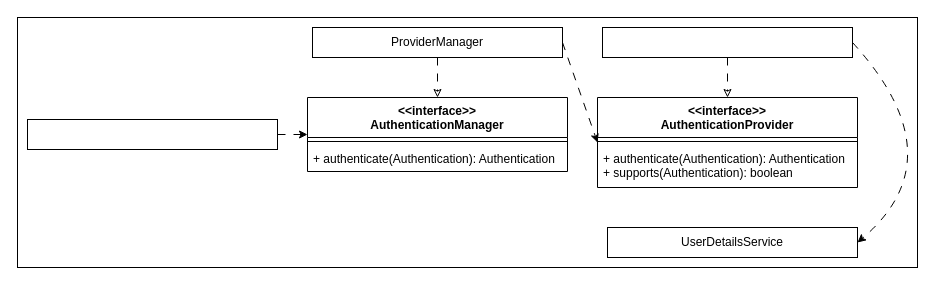
Some shapes in this 935 by 285 pixel diagram are drawn without their labels. The shapes that lost their labels are listed below. From the top down, each one's box as (x1, y1, x2, y2) in pixels, then its label:
(602, 26, 852, 58): DAOAuthenticationProvider
(26, 118, 278, 150): UsernamePasswordAuthenticationFilter
